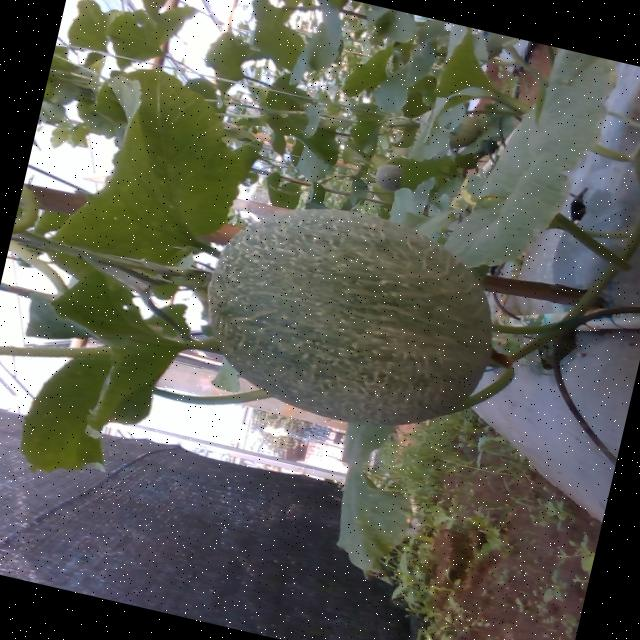melon: (208, 209, 493, 424)
